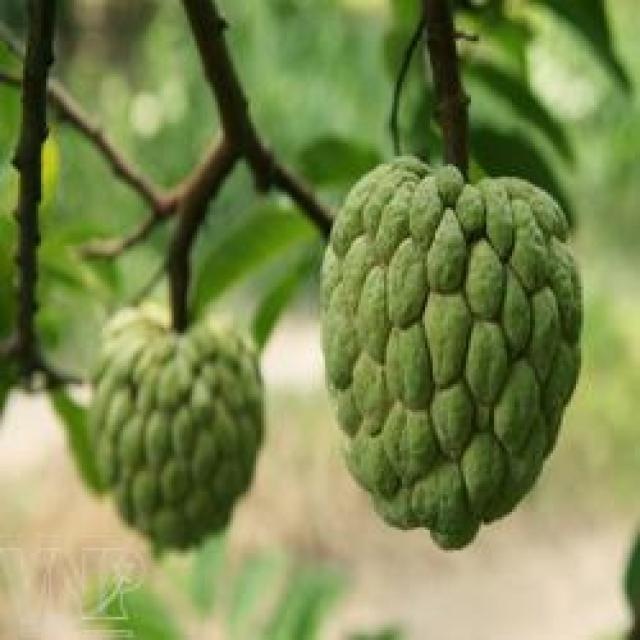apple: (330, 159, 592, 550), (84, 297, 269, 543)
